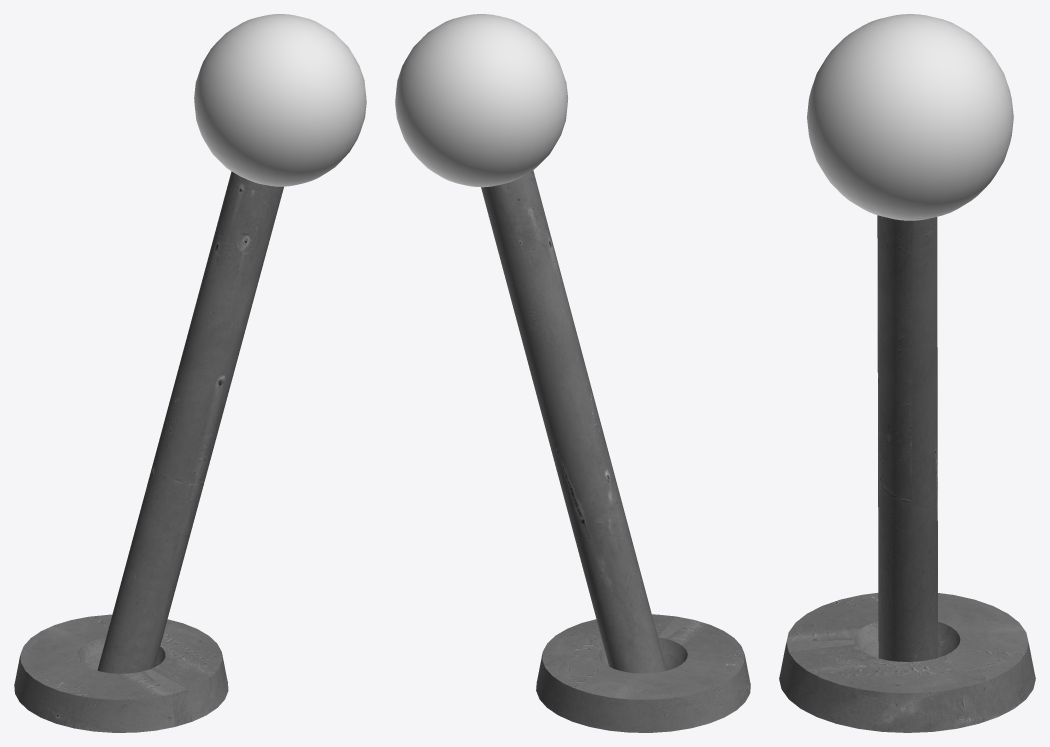
Rendered from Lever.fbx.
The picture shows the model from 3 angles, left to right: view 1: azimuth 30°, elevation 25°; view 2: azimuth 150°, elevation 25°; view 3: azimuth 270°, elevation 25°; orthographic projection. The views are drawn at different scales.
Visible parts, largest first — view 1: Cylinder, Sphere, Circle; view 2: Cylinder, Sphere, Circle; view 3: Sphere, Cylinder, Circle.
Part boxes in pixels (box(x1,y1,x2,y2)): Cylinder: box(97, 171, 283, 673); Sphere: box(194, 14, 366, 186); Circle: box(14, 614, 228, 732); Cylinder: box(481, 170, 666, 673); Sphere: box(395, 14, 568, 187); Circle: box(536, 614, 750, 732); Sphere: box(807, 14, 1013, 220); Cylinder: box(877, 215, 937, 661); Circle: box(779, 593, 1035, 732).
Size of the model in its own units: 24.83 by 45.61 by 14.07.
